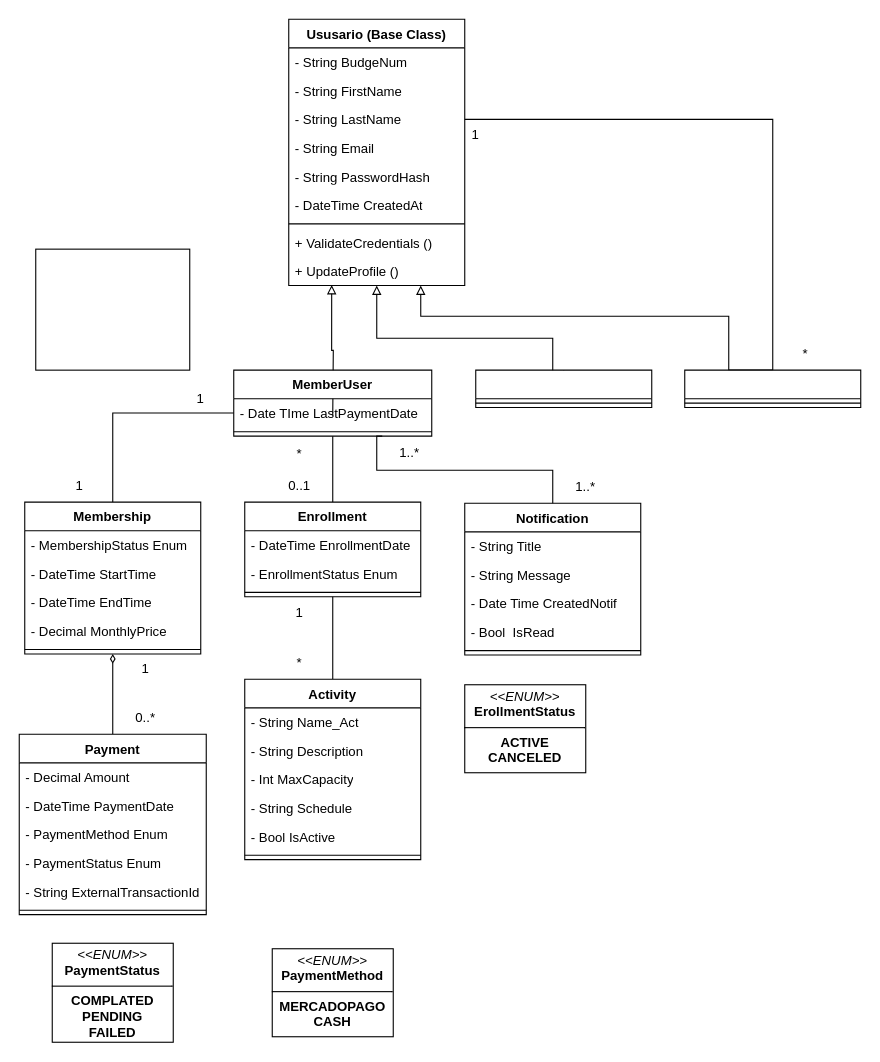
This 880x1062 diagram has some shape labels left out. The shapes that lost their labels are listed below. From the top down, each one's centre as x and y in pixels, then its label:
At (112,309): "<<ENUM>> MembershipStatus ACTIVE EXPIRED PENDING EXPIRING".
At (563,388): "Admin".
At (772,388): "SuperAdmin".
